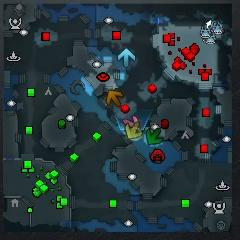x1: (123, 115, 138, 128)
x2: (125, 122, 141, 139)
x3: (118, 49, 136, 67)
x4: (146, 128, 162, 145)
x5: (106, 90, 123, 106)
